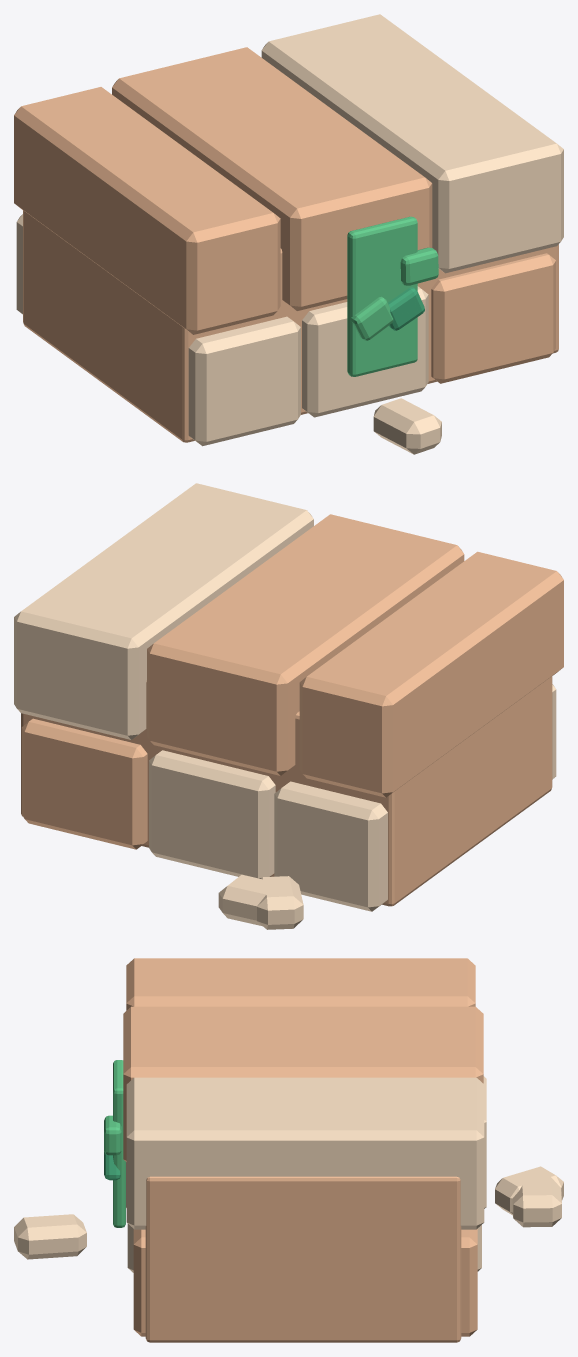
Rendered from ruin-low.glb.
3 renders of one model, top to bottom at view 1: azimuth 30°, elevation 25°; view 2: azimuth 150°, elevation 25°; view 3: azimuth 270°, elevation 25°, orthographic. The views are drawn at different scales.
Visible parts, largest first — view 1: ruin-low; view 2: ruin-low; view 3: ruin-low.
Boxes of the visible parts, x1,y1,x2,y2 form: ruin-low: [14, 14, 563, 454]; ruin-low: [14, 483, 563, 929]; ruin-low: [14, 958, 563, 1342].
Bounding box in the file's own units: 0.97 × 0.5375 × 1.25.
Materials: 1 (1 with a texture image).
